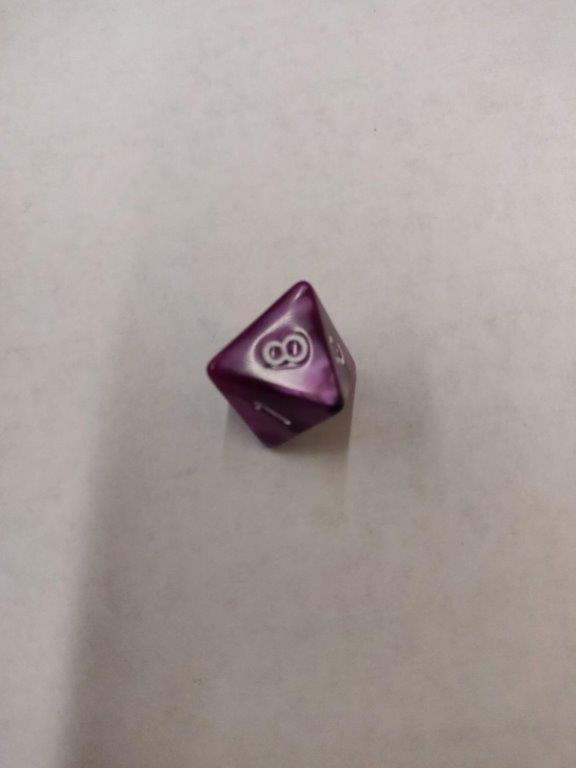d8-8: (205, 279, 359, 451)
